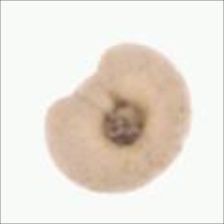L5: (100, 92, 150, 147), (74, 74, 118, 111)
L6: (43, 41, 195, 195)
